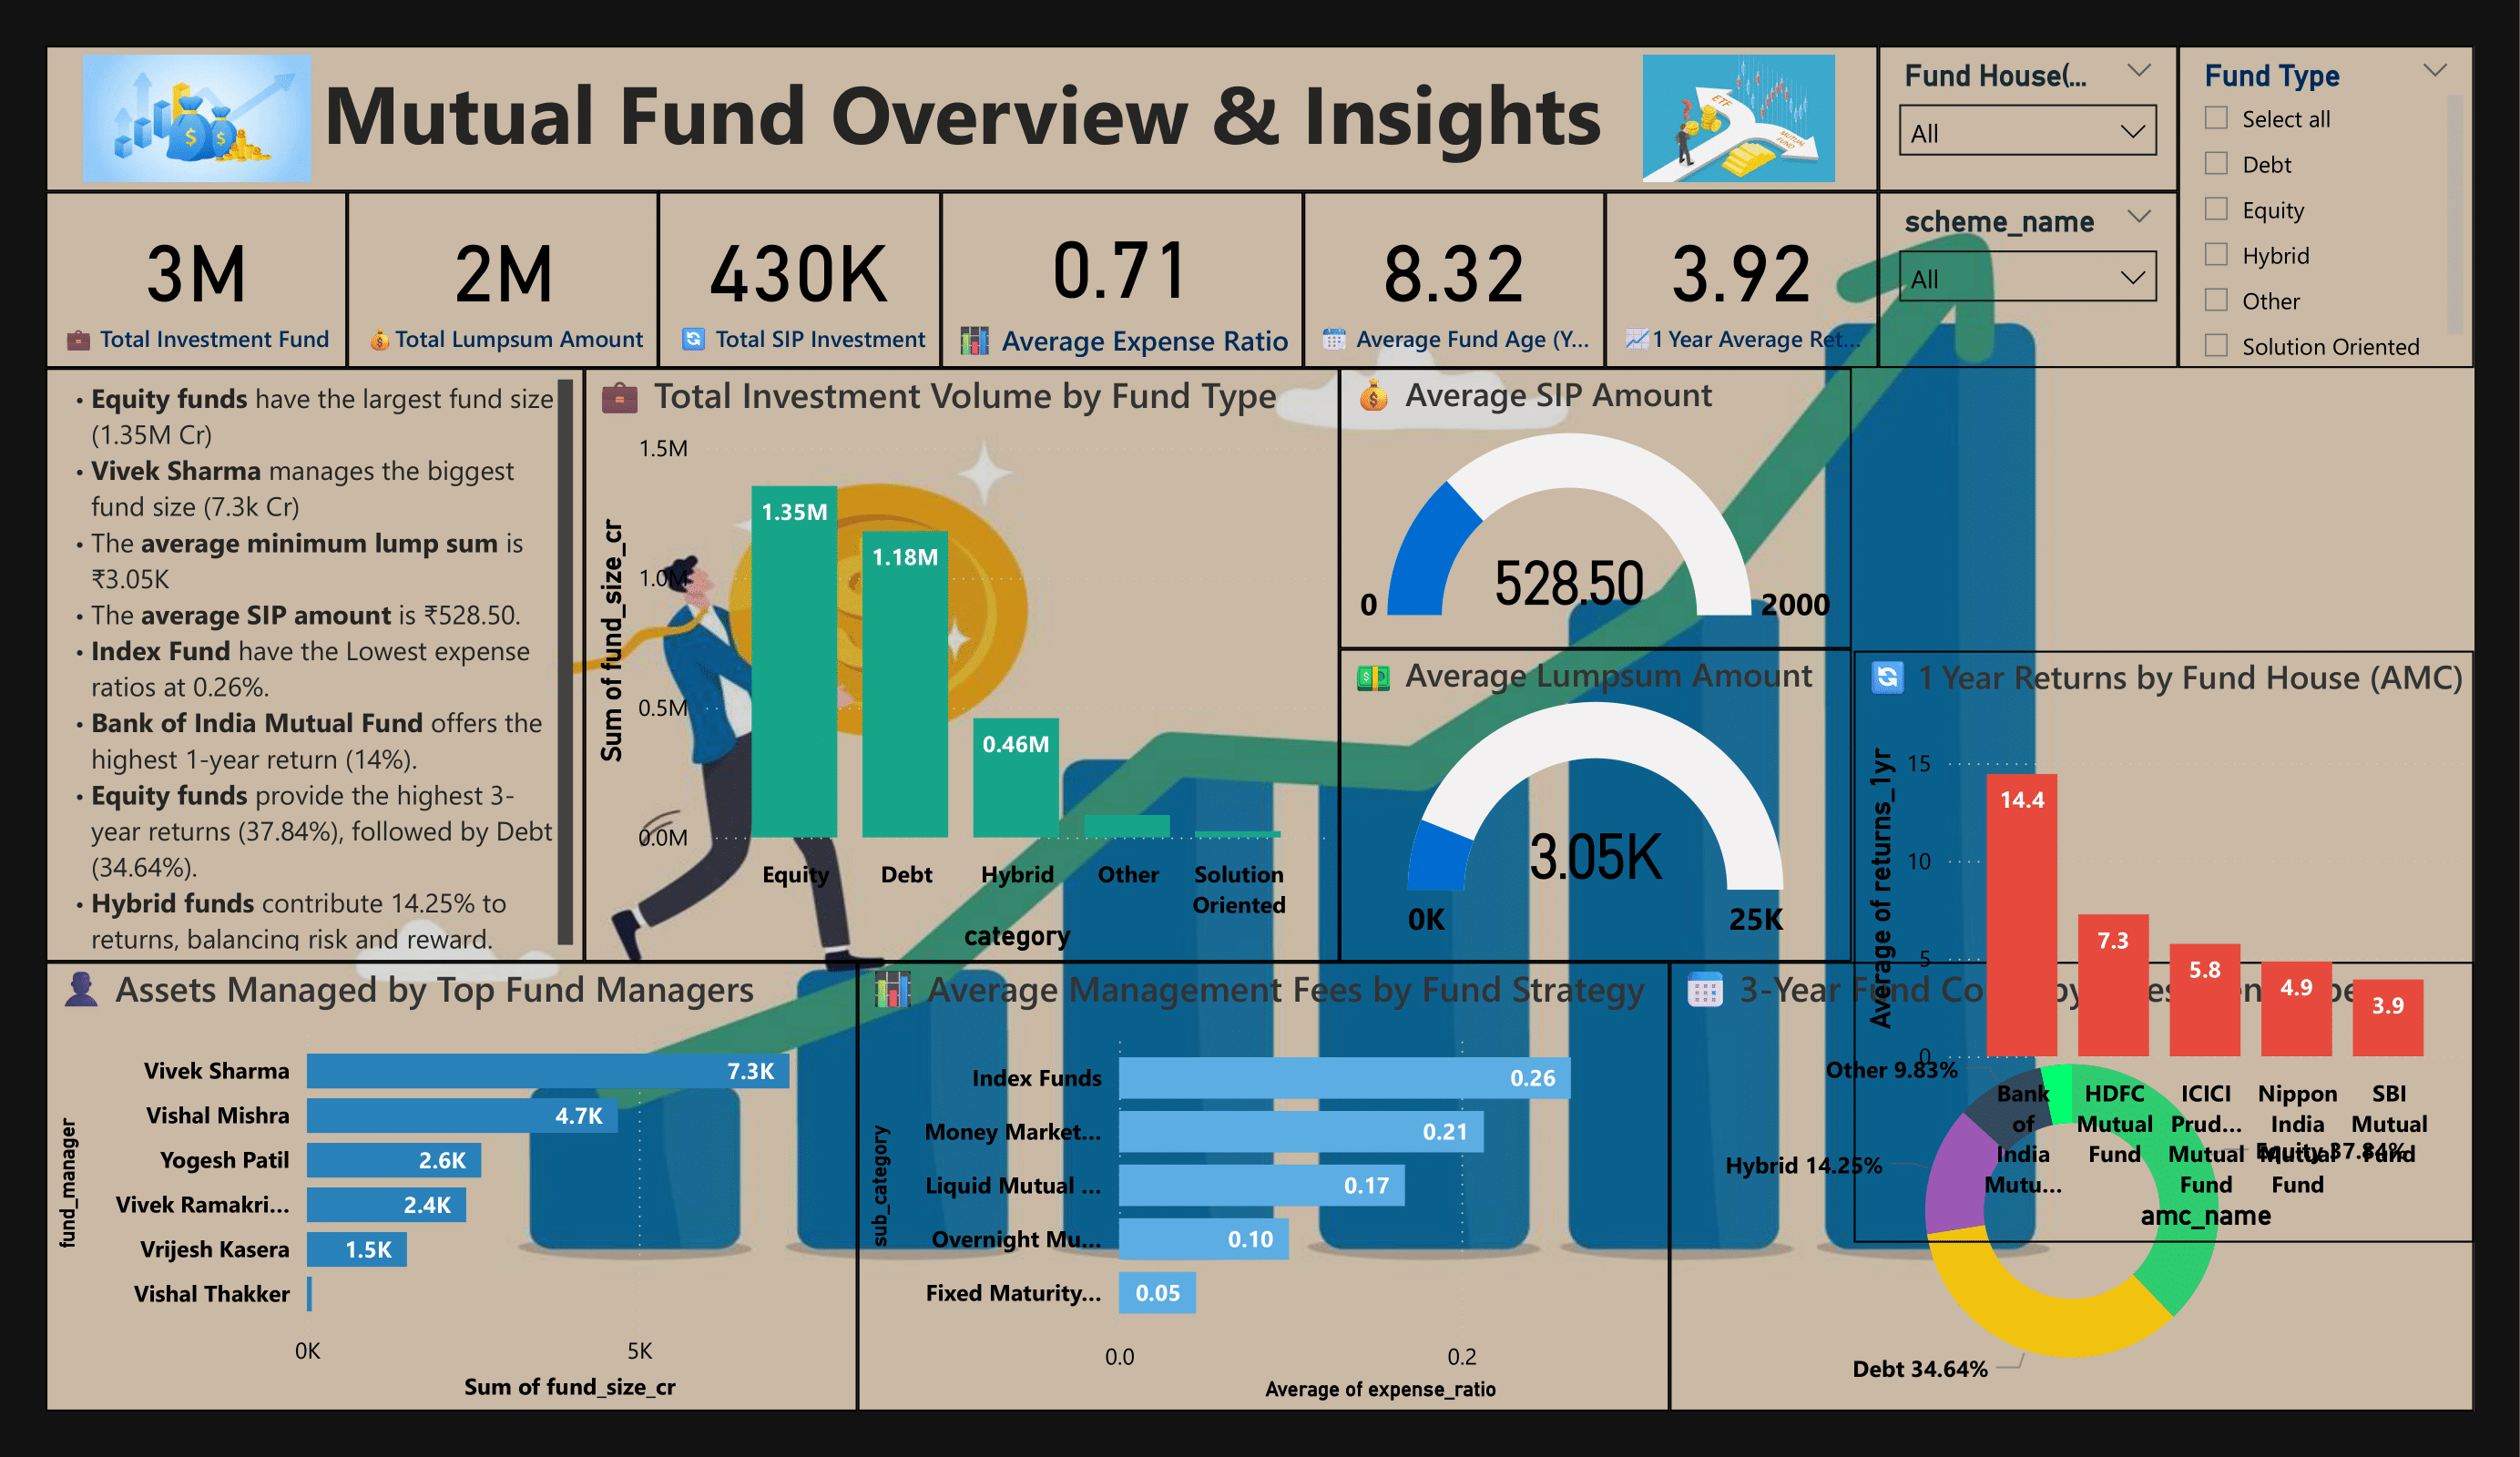

This screenshot's page, from the dashboard's own definition file:
{"tool":"powerbi","page":{"name":"Page 1","canvas":[1280,720],"ordinal":0},"visuals":[{"type":"donutChart","title":"📅 3-Year Fund Count by Investment Type","fields":{"Category":["Mutual Fund.category"],"Y":["Mutual Fund.returns_3yr"]},"box":[856.3,483,424,237.4],"z":0},{"type":"barChart","title":"📊 Average Management Fees by Fund Strategy","fields":{"Category":["Mutual Fund.sub_category"],"Y":["Mutual Fund.expense_ratio"]},"box":[428.1,483,428.1,237.4],"z":1000},{"type":"barChart","title":"👤 Assets Managed by Top Fund Managers","fields":{"Category":["Mutual Fund.fund_manager"],"Y":["Mutual Fund.fund_size_cr"]},"box":[0,483,428.1,237.4],"z":2000},{"type":"lineStackedColumnComboChart","title":"💼 Total Investment Volume by Fund Type","fields":{"Category":["Mutual Fund.category"],"Y":["Mutual Fund.fund_size_cr"]},"box":[284,170.2,397.9,312.9],"z":3000},{"type":"gauge","title":"💵 Average Lumpsum Amount","fields":{"Y":["Mutual Fund.min_lumpsum"],"MinValue":["Sum(Mutual Fund.min_lumpsum)1"],"MaxValue":["Sum(Mutual Fund.min_lumpsum)2"]},"box":[682,318.4,270.3,164.7],"z":4000},{"type":"gauge","title":"💰 Average SIP Amount","fields":{"Y":["Mutual Fund.min_sip"],"MinValue":["Sum(Mutual Fund.min_sip)1"],"MaxValue":["Sum(Mutual Fund.min_sip)2"]},"box":[682,170.2,270.3,148.2],"z":5000},{"type":"columnChart","title":"🔄 1 Year Returns by Fund House (AMC)","fields":{"Category":["Mutual Fund.amc_name"],"Y":["Mutual Fund.returns_1yr"]},"box":[952.5,318.8,327.5,312.5],"z":6000},{"type":"slicer","fields":{"Values":["Mutual Fund.category"]},"box":[1123.8,0,156.4,170.2],"z":7000},{"type":"slicer","fields":{"Values":["Mutual Fund.amc_name"]},"box":[966,0,157.8,76.8],"z":8000},{"type":"slicer","fields":{"Values":["Mutual Fund.scheme_name"]},"box":[966,76.8,157.8,93.3],"z":9000},{"type":"card","fields":{"Values":["Mutual Fund.fund_size_cr"]},"box":[0,76.8,159.2,93.3],"z":10000},{"type":"card","fields":{"Values":["Mutual Fund.min_lumpsum"]},"box":[159.2,76.8,164.7,93.3],"z":11000},{"type":"card","fields":{"Values":["Mutual Fund.min_sip"]},"box":[322.5,76.8,149.6,93.3],"z":12000},{"type":"card","fields":{"Values":["Mutual Fund.expense_ratio"]},"box":[472,76.8,190.7,93.3],"z":13000},{"type":"card","fields":{"Values":["Mutual Fund.fund_age_yr"]},"box":[662.8,76.8,159.2,93.3],"z":14000},{"type":"card","fields":{"Values":["Mutual Fund.returns_1yr"]},"box":[822,76.8,144.1,93.3],"z":15000},{"type":"textbox","box":[0,0,966,76.8],"z":16000},{"type":"textbox","box":[0,170.2,284,312.9],"z":17000},{"type":"image","box":[0,0,159.2,76.8],"z":18000},{"type":"image","box":[817.8,0,148.2,76.8],"z":19000}]}

Visuals, with their boxes in screenshot pixels (x1, y1, x2, y2):
"📅 3-Year Fund Count by Investment Type" donutChart: [x1=1643, y1=943, x2=2437, y2=1389]
"📊 Average Management Fees by Fund Strategy" barChart: [x1=842, y1=943, x2=1643, y2=1389]
"👤 Assets Managed by Top Fund Managers" barChart: [x1=39, y1=943, x2=842, y2=1389]
"💼 Total Investment Volume by Fund Type" lineStackedColumnComboChart: [x1=571, y1=358, x2=1316, y2=944]
"💵 Average Lumpsum Amount" gauge: [x1=1317, y1=636, x2=1822, y2=944]
"💰 Average SIP Amount" gauge: [x1=1317, y1=358, x2=1822, y2=636]
"🔄 1 Year Returns by Fund House (AMC)" columnChart: [x1=1823, y1=637, x2=2436, y2=1221]
slicer - Mutual Fund.category: [x1=2144, y1=39, x2=2437, y2=358]
slicer - Mutual Fund.amc_name: [x1=1849, y1=39, x2=2144, y2=183]
slicer - Mutual Fund.scheme_name: [x1=1849, y1=183, x2=2144, y2=358]
card - Mutual Fund.fund_size_cr: [x1=39, y1=183, x2=338, y2=358]
card - Mutual Fund.min_lumpsum: [x1=338, y1=183, x2=646, y2=358]
card - Mutual Fund.min_sip: [x1=643, y1=183, x2=923, y2=358]
card - Mutual Fund.expense_ratio: [x1=923, y1=183, x2=1280, y2=358]
card - Mutual Fund.fund_age_yr: [x1=1280, y1=183, x2=1578, y2=358]
card - Mutual Fund.returns_1yr: [x1=1578, y1=183, x2=1849, y2=358]
textbox: [x1=39, y1=39, x2=1849, y2=183]
textbox: [x1=39, y1=358, x2=571, y2=944]
image: [x1=39, y1=39, x2=338, y2=183]
image: [x1=1571, y1=39, x2=1849, y2=183]
